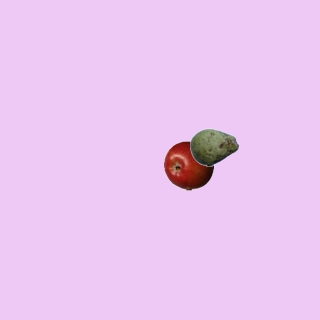Apple Braeburn: (163, 140, 213, 190)
Pear Stone: (189, 122, 239, 172)
